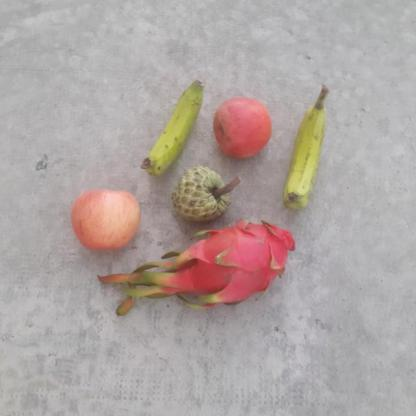annona: (172, 163, 233, 226)
apple: (70, 185, 142, 252), (207, 95, 273, 160)
banana: (138, 80, 208, 177), (283, 108, 332, 208)
pitaya: (178, 221, 297, 307)
